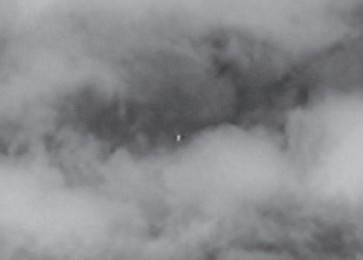Target: (178, 135, 180, 140)
